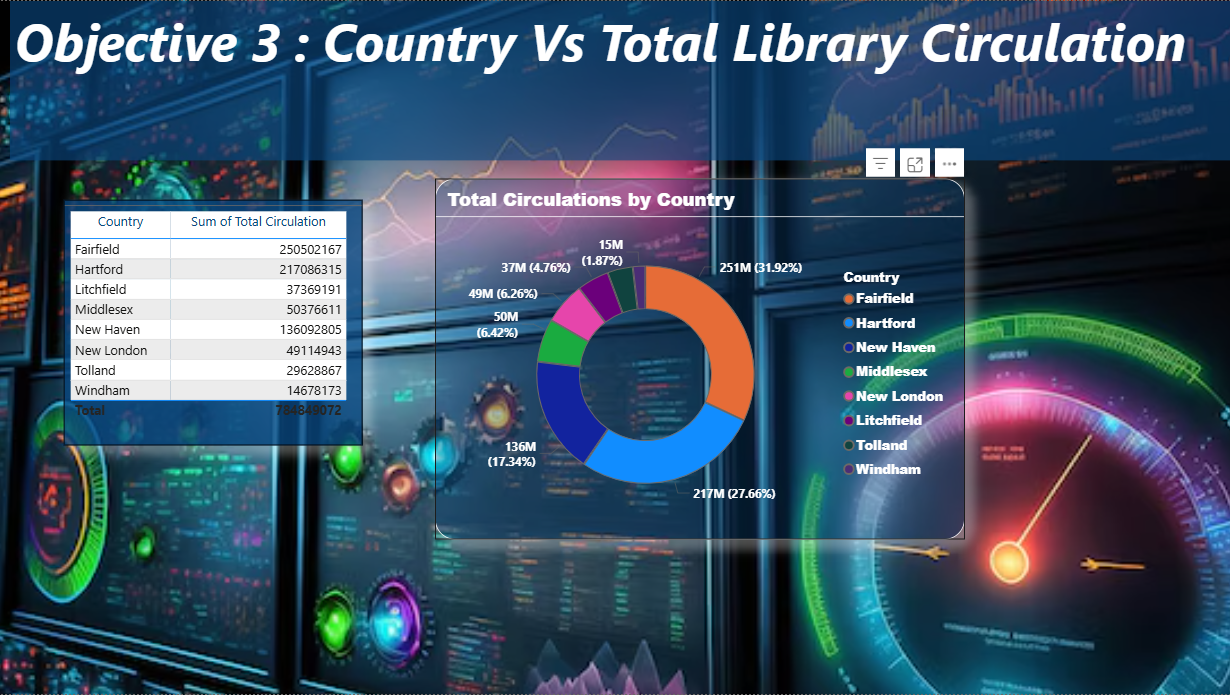

The dashboard page shown, as its layout file describes it:
{"tool":"powerbi","page":{"name":"Objective 4","canvas":[1280,720],"ordinal":5},"visuals":[{"type":"textbox","box":[10.6,0,1269.4,165.9],"z":0},{"type":"tableEx","fields":{"Values":["Public_Libraries.Country","Sum(Public_Libraries.Total Circulation)"]},"box":[65.9,205.9,310.6,255.3],"z":1000},{"type":"donutChart","title":"Total Circulations by Country","fields":{"Category":["Public_Libraries.County"],"Y":["Sum(Public_Libraries.Total Circulation)"]},"box":[451.8,184.7,550.6,375.3],"z":2000}]}

Visuals, with their boxes in screenshot pixels (x1, y1, x2, y2), scaled from the page's 1280x720 canvas onto the 1230x695 screenshot:
textbox: (left=10, top=0, right=1229, bottom=160)
tableEx - Public_Libraries.Country x Sum(Public_Libraries.Total Circulation): (left=63, top=199, right=362, bottom=445)
"Total Circulations by Country" donutChart: (left=434, top=178, right=963, bottom=541)
